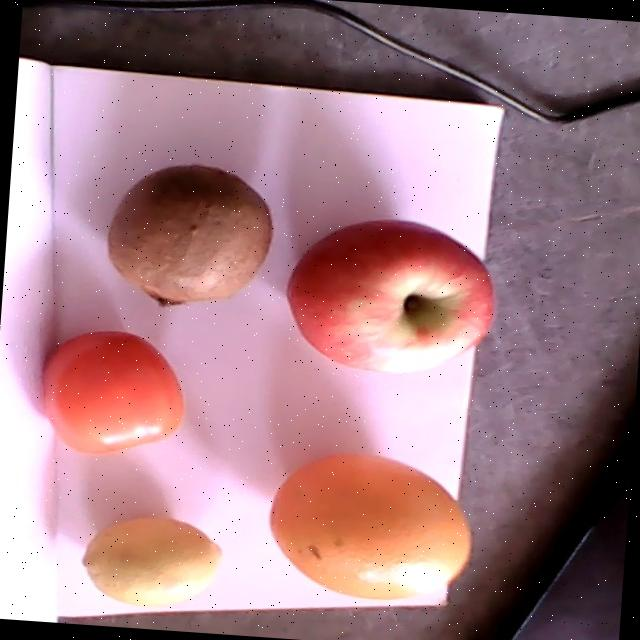apple: (285, 219, 492, 373)
kiwi: (106, 164, 272, 308)
lemon: (80, 515, 221, 606)
orange: (267, 453, 470, 601)
tomato: (44, 329, 182, 453)
